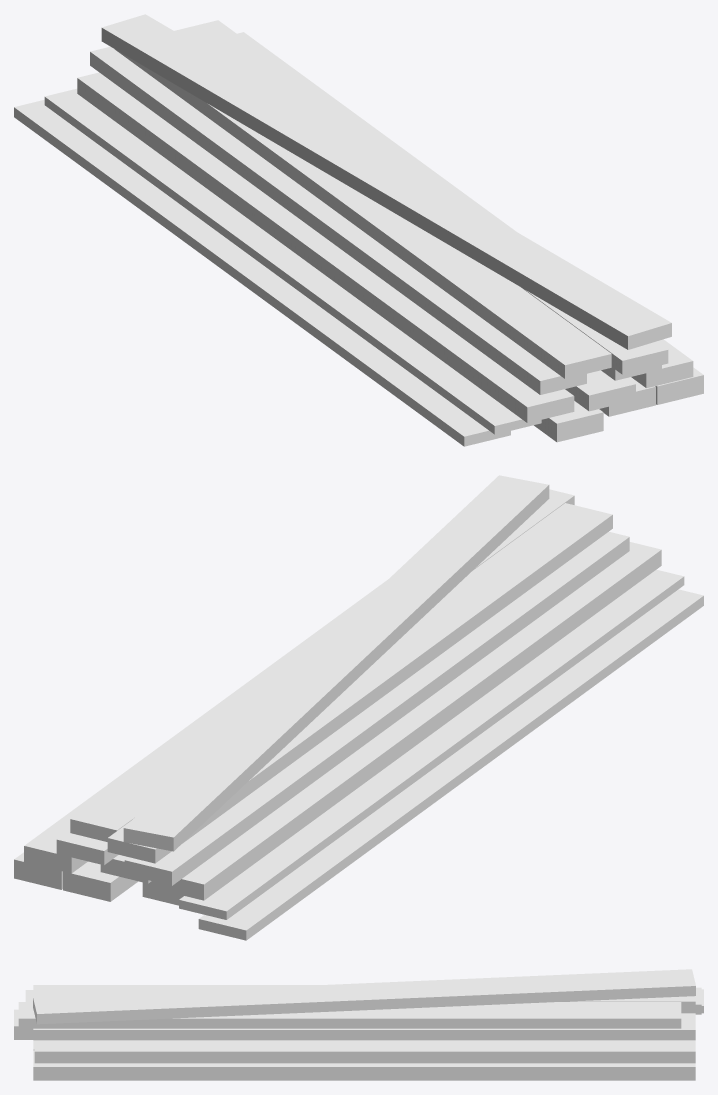
Rendered from Prop_Plank_Stack_02.glb.
The picture shows the model from 3 angles, top to bottom: view 1: azimuth 30°, elevation 25°; view 2: azimuth 150°, elevation 25°; view 3: azimuth 270°, elevation 25°; orthographic projection. The views are drawn at different scales.
Parts seen in each view (by area): view 1: Prop_Plank_Stack_02; view 2: Prop_Plank_Stack_02; view 3: Prop_Plank_Stack_02.
Part boxes in pixels (<box>): Prop_Plank_Stack_02: <box>14,14,703,446</box>; Prop_Plank_Stack_02: <box>14,475,703,940</box>; Prop_Plank_Stack_02: <box>14,969,703,1080</box>.
Bounding box in the file's own units: 1.05 × 0.3266 × 3.65.
Materials: 1 (1 with a texture image).
